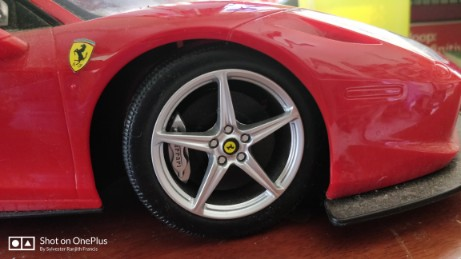unaligned_wheel: (116, 44, 326, 240)
